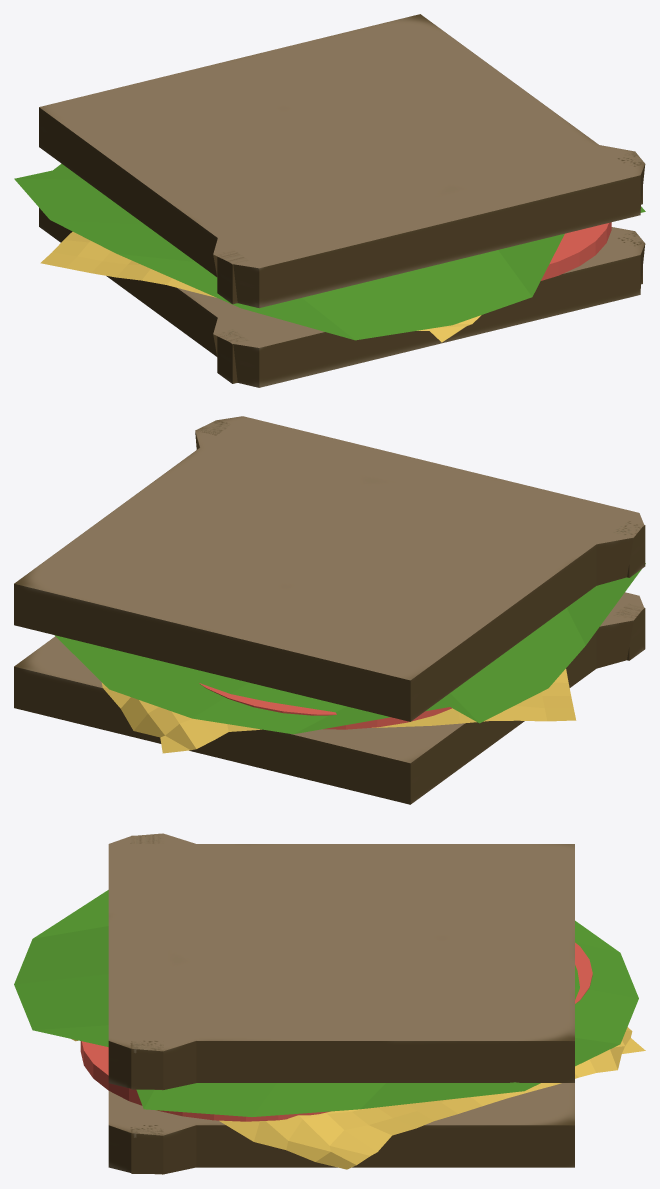
Rendered from sandwich_low_poly.glb.
3 views of the same model, one above another, from view 1: azimuth 30°, elevation 25°; view 2: azimuth 150°, elevation 25°; view 3: azimuth 270°, elevation 25° (orthographic). The views are drawn at different scales.
Visible parts, largest first — view 1: Cube.001_3, Plane.001_7, Cube_0, Plane_4, Cylinder_5; view 2: Cube.001_3, Cube_0, Plane.001_7, Plane_4, Cylinder.001_6; view 3: Cube.001_3, Plane.001_7, Cube_0, Plane_4, Cylinder_5, Cylinder.001_6.
Part boxes in pixels (x1,y1,x2,y2): Cube.001_3: (39,14,645,308); Plane.001_7: (14,163,645,340); Cube_0: (39,208,645,387); Plane_4: (40,231,481,342); Cylinder_5: (541,222,611,280); Cube.001_3: (14,416,645,721); Cube_0: (14,592,645,804); Plane.001_7: (54,563,645,734); Plane_4: (101,669,576,753); Cylinder.001_6: (199,683,451,729); Cube.001_3: (108,833,574,1090); Plane.001_7: (14,890,638,1116); Cube_0: (108,1083,574,1174); Plane_4: (71,1027,645,1169); Cylinder_5: (80,1041,330,1121); Cylinder.001_6: (575,942,592,1003).
Size of the model in its own units: 2.63 by 0.5993 by 2.71.
4 materials, 1 textured.
